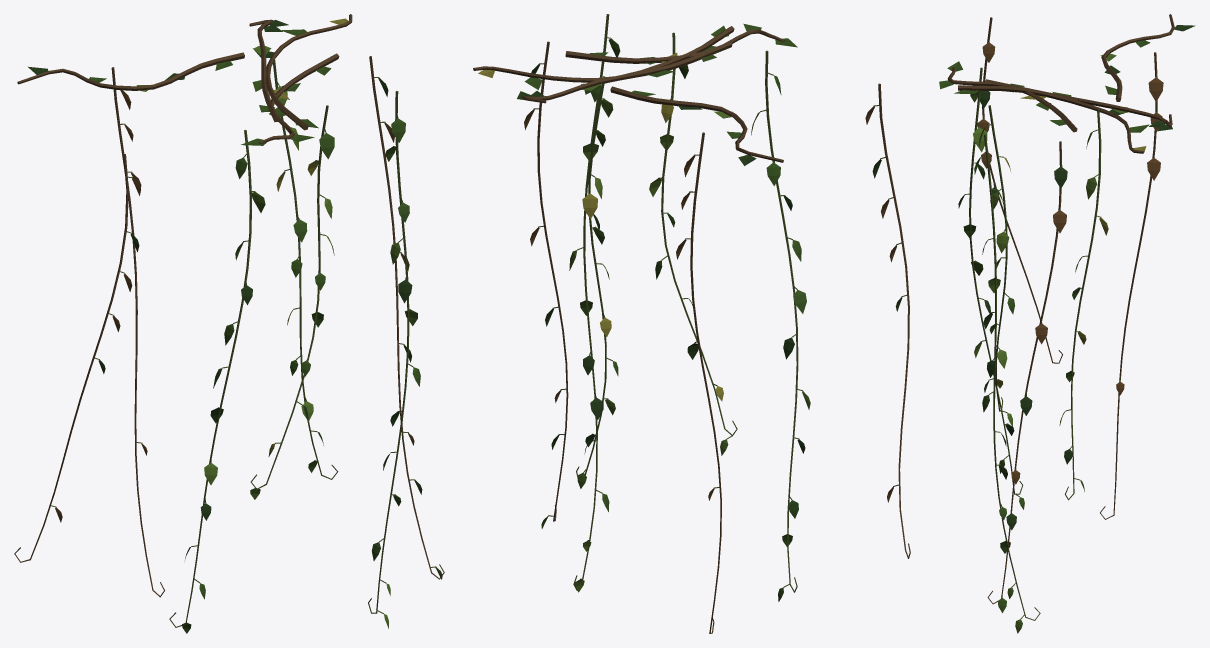
File: vines_ceiling@1.glb
The picture shows the model from 3 angles, left to right: view 1: azimuth 30°, elevation 25°; view 2: azimuth 150°, elevation 25°; view 3: azimuth 270°, elevation 25°; orthographic projection. The views are drawn at different scales.
Parts seen in each view (by area): view 1: teil0, teil5, teil1, teil3, teil2, teil6; view 2: teil0, teil5, teil1, teil3, teil2, teil4, teil6; view 3: teil0, teil5, teil1, teil3, teil6, teil2.
Part boxes in pixels (bbox=[...]): teil0: bbox=[14, 14, 444, 597]; teil5: bbox=[51, 59, 436, 627]; teil1: bbox=[89, 29, 442, 633]; teil3: bbox=[28, 20, 422, 559]; teil2: bbox=[136, 45, 417, 628]; teil6: bbox=[55, 90, 414, 522]; teil0: bbox=[473, 26, 910, 633]; teil5: bbox=[533, 14, 906, 592]; teil1: bbox=[524, 23, 806, 601]; teil3: bbox=[517, 64, 902, 518]; teil2: bbox=[569, 83, 810, 592]; teil4: bbox=[478, 53, 723, 401]; teil6: bbox=[524, 106, 896, 502]; teil0: bbox=[947, 14, 1174, 604]; teil5: bbox=[964, 38, 1156, 620]; teil1: bbox=[939, 40, 1150, 612]; teil3: bbox=[958, 25, 1195, 530]; teil6: bbox=[977, 42, 1163, 484]; teil2: bbox=[973, 53, 1128, 633].
Bounding box in the file's own units: 1.13 × 1.52 × 0.7108.
